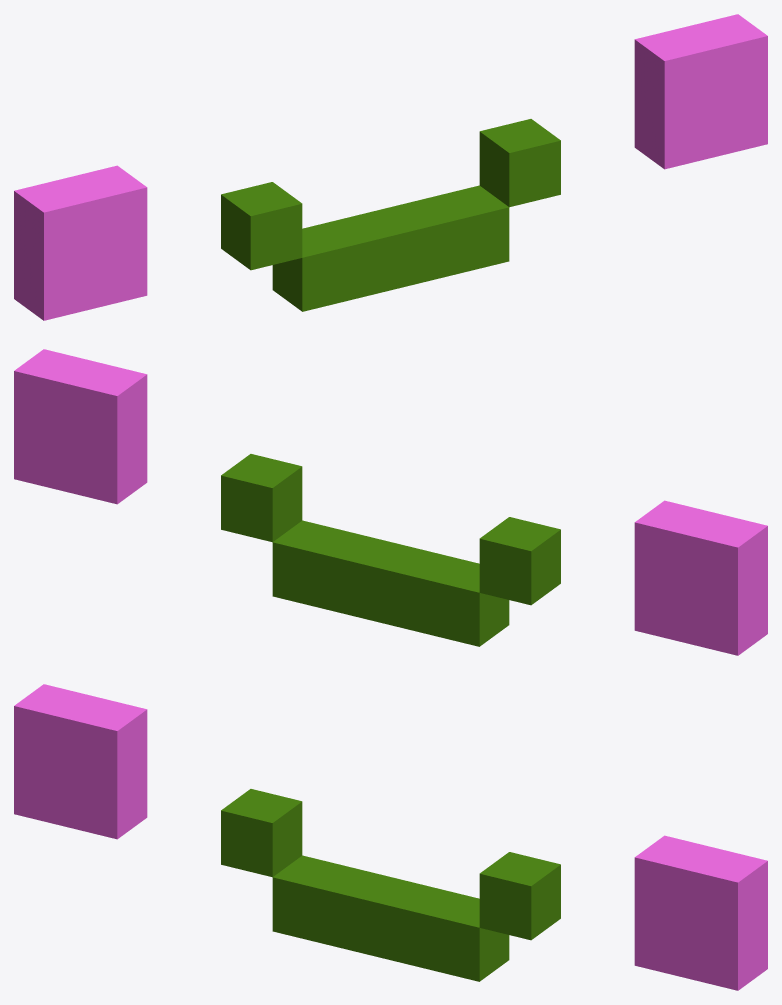
File: FaceObjets.fbx
3 views of the same model, one above another, from view 1: azimuth 30°, elevation 25°; view 2: azimuth 150°, elevation 25°; view 3: azimuth 330°, elevation 25° (orthographic).
Visible parts, largest first — view 1: FaceObjets; view 2: FaceObjets; view 3: FaceObjets.
Boxes of the visible parts, <box> form: FaceObjets: <box>14,14,767,320</box>; FaceObjets: <box>14,349,767,655</box>; FaceObjets: <box>14,684,767,990</box>.
Bounding box in the file's own units: 140 × 30 × 10.
Materials: 1 (1 with a texture image).
